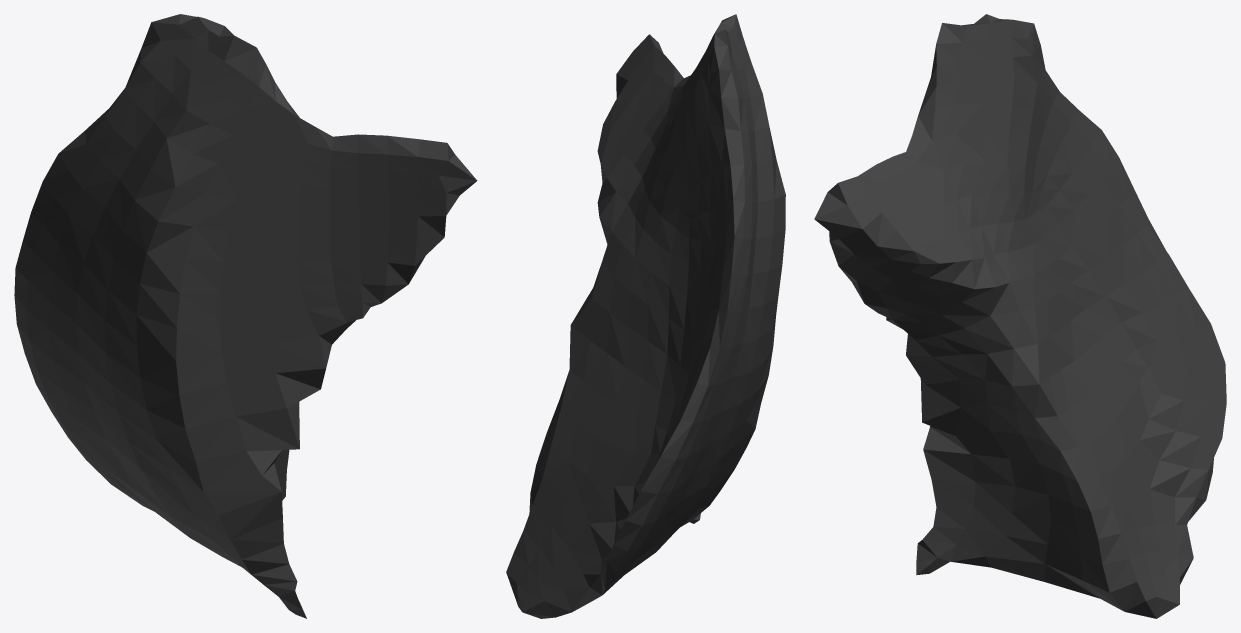
The model's file is Middle_lobe_R_lung.glb.
The picture shows the model from 3 angles, left to right: view 1: azimuth 30°, elevation 25°; view 2: azimuth 150°, elevation 25°; view 3: azimuth 270°, elevation 25°; orthographic projection. The views are drawn at different scales.
Visible parts, largest first — view 1: Middle_lobe_R_lung; view 2: Middle_lobe_R_lung; view 3: Middle_lobe_R_lung.
Boxes of the visible parts, x1,y1,x2,y2 form: Middle_lobe_R_lung: (14, 14, 477, 618); Middle_lobe_R_lung: (506, 14, 785, 618); Middle_lobe_R_lung: (814, 14, 1226, 618).
Bounding box in the file's own units: 0.609 × 1.29 × 0.8824.
Materials: 1 (1 with a texture image).
